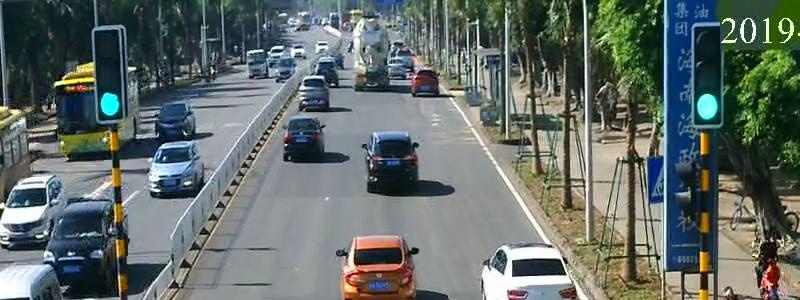green: (85, 83, 140, 132), (689, 87, 737, 128)
